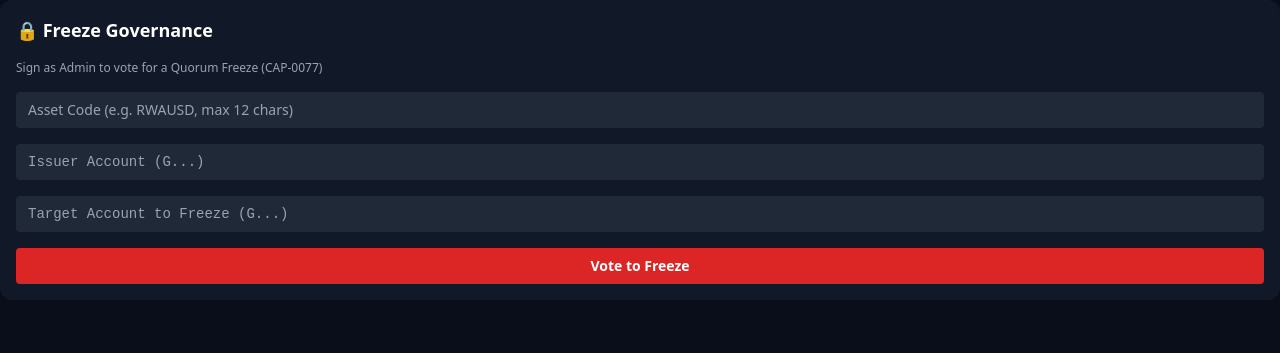
Scenario: shows success and clears form after successful vote
Type "RWAUSD" into the field with placeholder "Asset Code (e.g. RWAUSD, max 12 chars)".
click(640, 110); type("RWAUSD")  # box [16,92,1264,128]
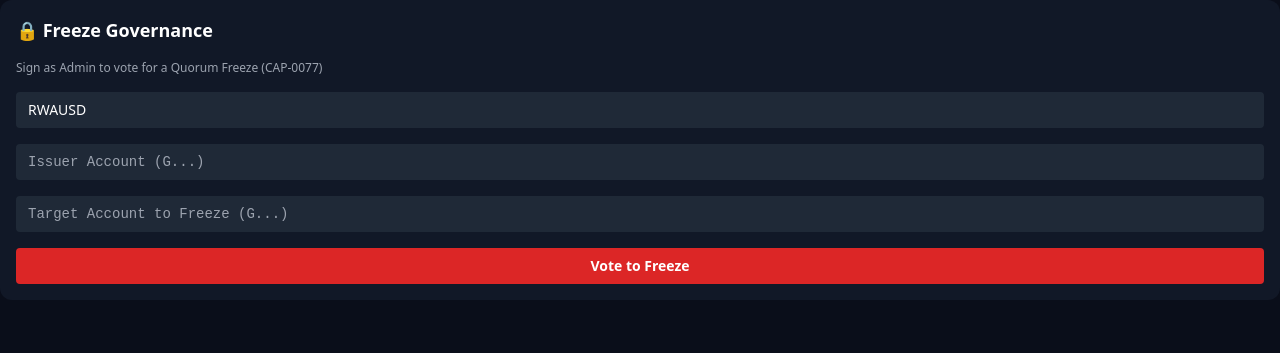
Type "GCX6QWASDB2FFJKP4ZQXM4Q3UJLNSW5LJTUWA6CD5WTATUE6WWB5GJCH" into the field with placeholder "Issuer Account (G...)".
click(640, 162); type("GCX6QWASDB2FFJKP4ZQXM4Q3UJLNSW5LJTUWA6CD5WTATUE6WWB5GJCH")  # box [16,144,1264,180]
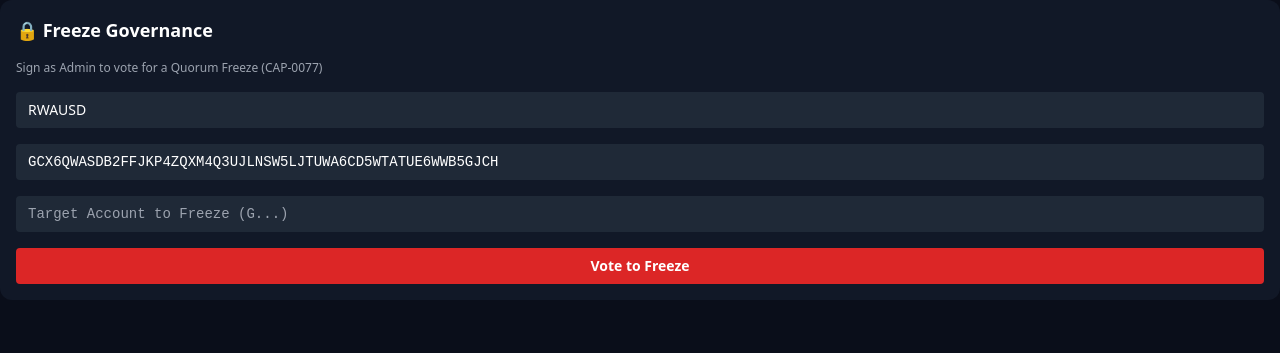
Type "GCX6QWASDB2FFJKP4ZQXM4Q3UJLNSW5LJTUWA6CD5WTATUE6WWB5GJCH" into the field with placeholder "Target Account to Freeze (G...)".
click(640, 214); type("GCX6QWASDB2FFJKP4ZQXM4Q3UJLNSW5LJTUWA6CD5WTATUE6WWB5GJCH")  # box [16,196,1264,232]
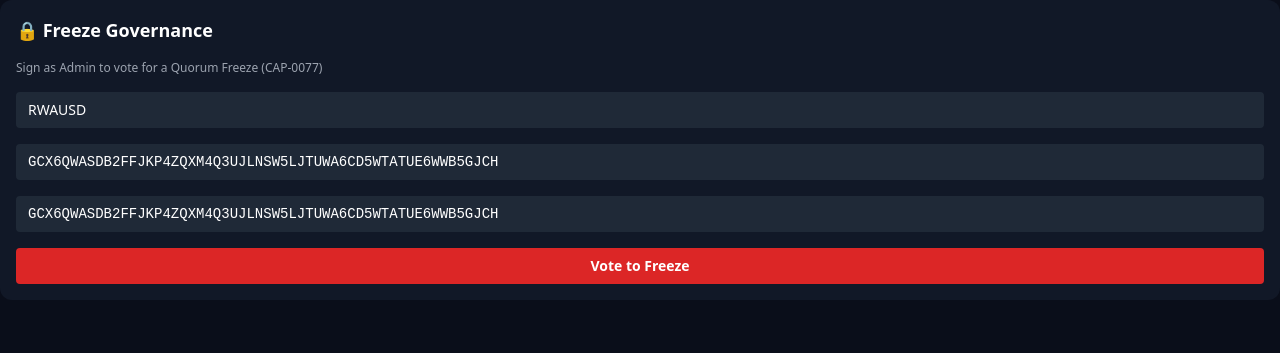
Click the button "Vote to Freeze".
click(640, 266)  # box [16,248,1264,284]
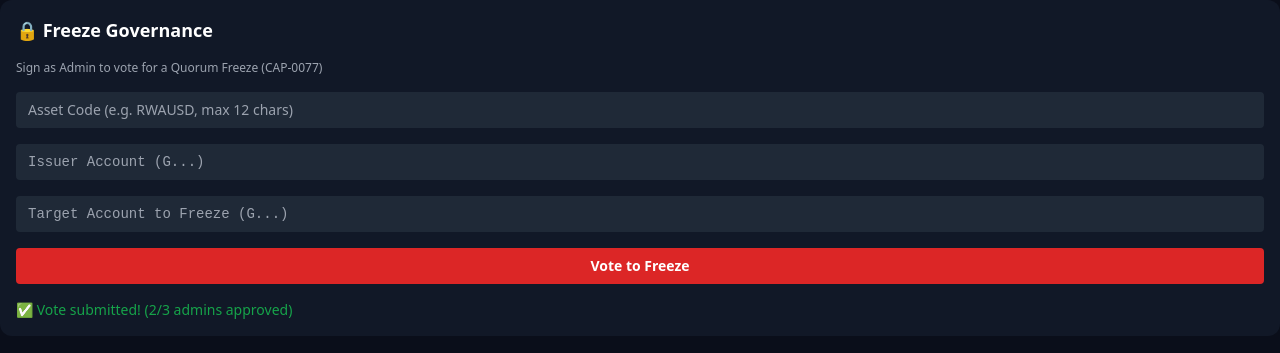
Result: the text "✅ Vote submitted! (2/3 admins approved)" is shown at [16,300,292,319]
Result: the field with placeholder "Asset Code (e.g. RWAUSD, max 12 chars)" is empty at [16,92,1264,128]
Result: the field with placeholder "Issuer Account (G...)" is empty at [16,144,1264,180]
